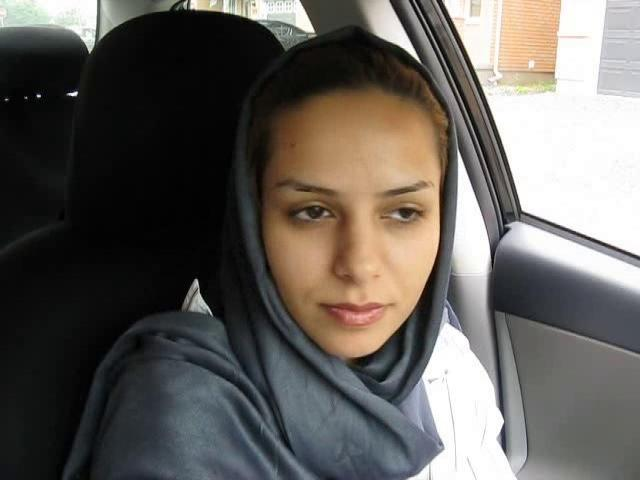eye_open: (284, 196, 340, 230), (380, 200, 429, 230)
face: (265, 152, 445, 359)
